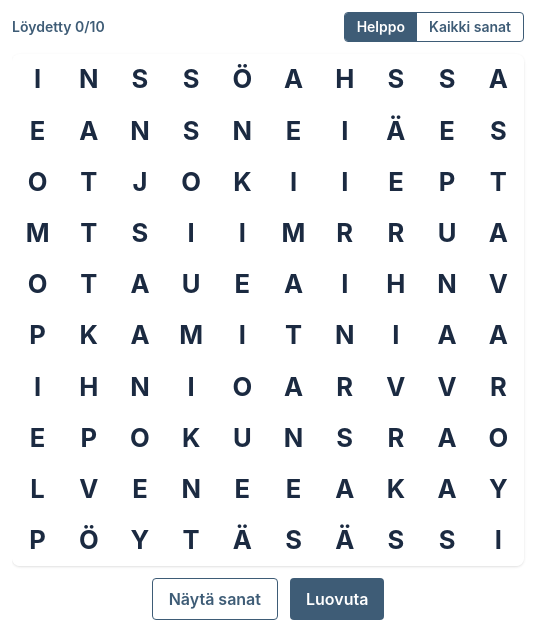
Test case: SanapiiloGame › finds a word by dragging over it, in either direction
The image size is (541, 637).
Step 1. Press the mouse on the table → [268, 310], box [12,54,524,566]
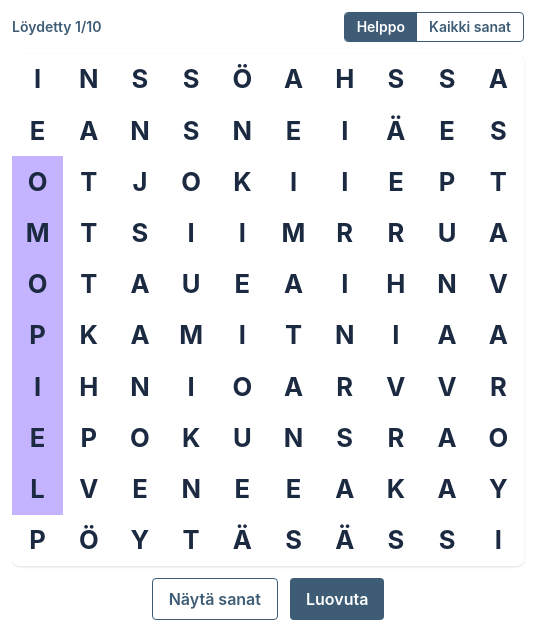
Result: the text "Löydetty 1/10" is shown at [12,17,101,37]
Step 2. Press the mouse on the table → [268, 310], box [12,54,524,566]
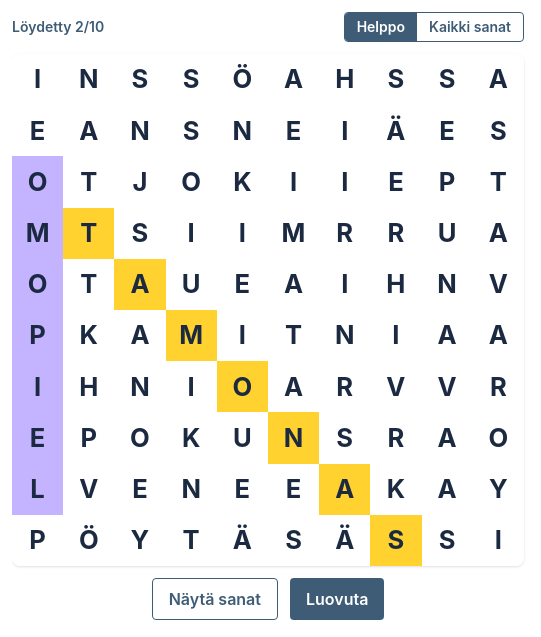
Result: the text "Löydetty 2/10" is shown at [12,17,104,37]
